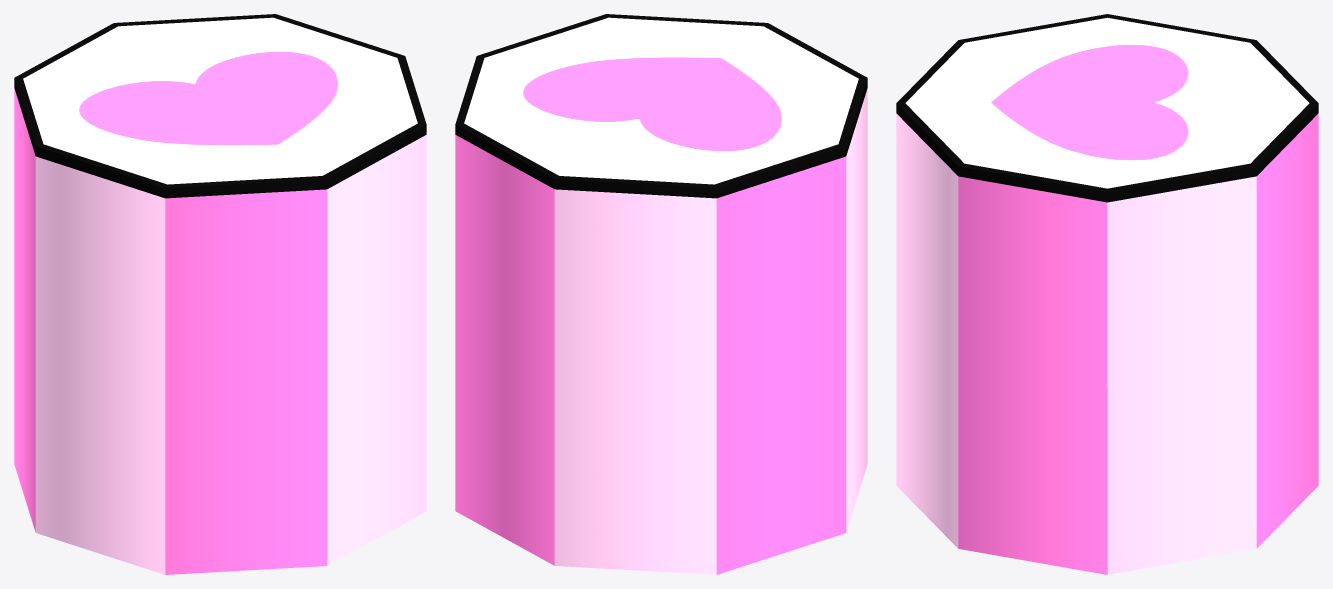
File: cocobay_cylinder.gltf
3 views of the same model, side by side, from view 1: azimuth 30°, elevation 25°; view 2: azimuth 150°, elevation 25°; view 3: azimuth 270°, elevation 25° (orthographic).
Visible parts, largest first — view 1: cocobay_cylinder_glb; view 2: cocobay_cylinder_glb; view 3: cocobay_cylinder_glb.
Boxes of the visible parts, x1,y1,x2,y2 form: cocobay_cylinder_glb: [14, 14, 426, 574]; cocobay_cylinder_glb: [455, 14, 867, 574]; cocobay_cylinder_glb: [896, 14, 1318, 574].
Size of what is drawn, in the model's own units: 1.03 by 1.03 by 1.03.
2 materials, 2 textured.
